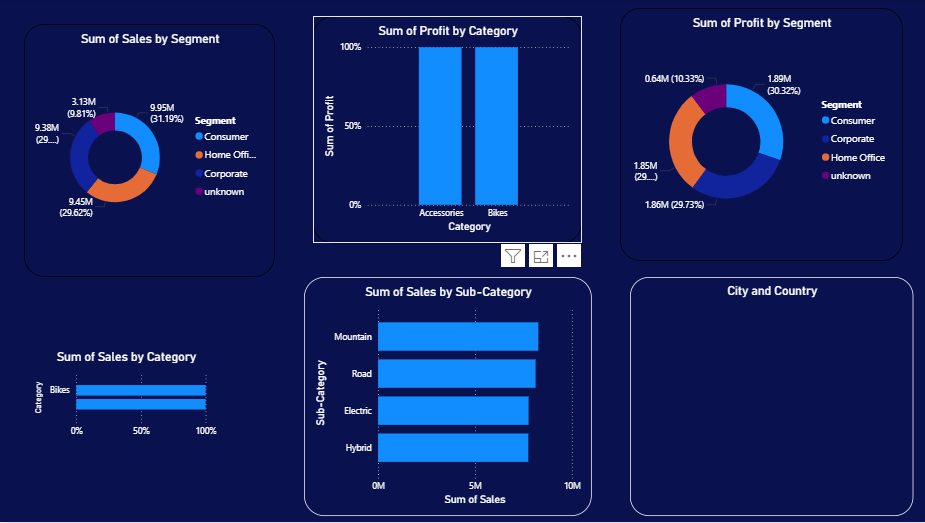

Layout of this report page (visuals, bound fields, positions):
{"tool":"powerbi","page":{"name":"Page 2","canvas":[1280,720],"ordinal":1},"visuals":[{"type":"donutChart","fields":{"Category":["Sheet1.Segment"],"Y":["Sum(Sheet1.Sales)"]},"box":[34.4,34.4,345.5,348.2],"z":0},{"type":"donutChart","fields":{"Category":["Sheet1.Segment"],"Y":["Sum(Sheet1.Profit)"]},"box":[854.6,11.7,389.3,348.3],"z":1000},{"type":"hundredPercentStackedBarChart","fields":{"Category":["Sheet1.Category"],"Y":["Sum(Sheet1.Sales)"]},"box":[34.3,471.4,280,150],"z":2000},{"type":"hundredPercentStackedColumnChart","fields":{"Category":["Sheet1.Category"],"Y":["Sum(Sheet1.Profit)"]},"box":[432.9,22.9,370,312.9],"z":3000},{"type":"clusteredBarChart","fields":{"Category":["Sheet1.Sub-Category"],"Y":["Sum(Sheet1.Sales)"]},"box":[420,382.9,395.7,328.6],"z":4000},{"type":"filledMap","fields":{"Category":["Sheet1.City","Sheet1.Region"],"Series":["Sheet1.Country"]},"box":[869,383,390,329],"z":5000}]}

Visuals, with their boxes in screenshot pixels (x1, y1, x2, y2), scaled from the page's 1280x720 canvas onto the 925x523 screenshot:
donutChart - Sheet1.Segment x Sum(Sheet1.Sales): x1=25, y1=25, x2=275, y2=278
donutChart - Sheet1.Segment x Sum(Sheet1.Profit): x1=618, y1=8, x2=899, y2=262
hundredPercentStackedBarChart - Sheet1.Category x Sum(Sheet1.Sales): x1=25, y1=342, x2=227, y2=451
hundredPercentStackedColumnChart - Sheet1.Category x Sum(Sheet1.Profit): x1=313, y1=17, x2=580, y2=244
clusteredBarChart - Sheet1.Sub-Category x Sum(Sheet1.Sales): x1=304, y1=278, x2=589, y2=517
filledMap - Sheet1.City x Sheet1.Region: x1=628, y1=278, x2=910, y2=517
